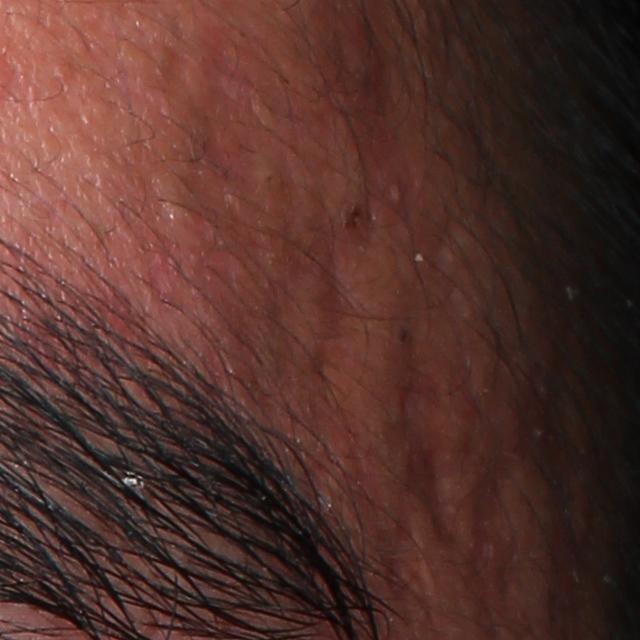atrophic_scar: (200, 37, 268, 238), (394, 347, 455, 546), (311, 214, 363, 386), (555, 368, 586, 614), (374, 514, 429, 629), (429, 210, 469, 368), (473, 463, 516, 604)
